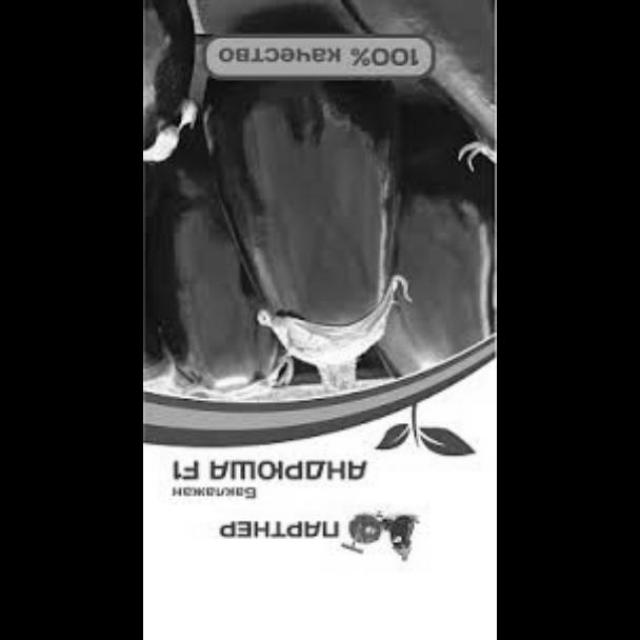ca tim: (213, 74, 393, 438), (146, 137, 290, 410), (363, 119, 492, 412), (348, 0, 498, 176), (145, 1, 257, 193)
